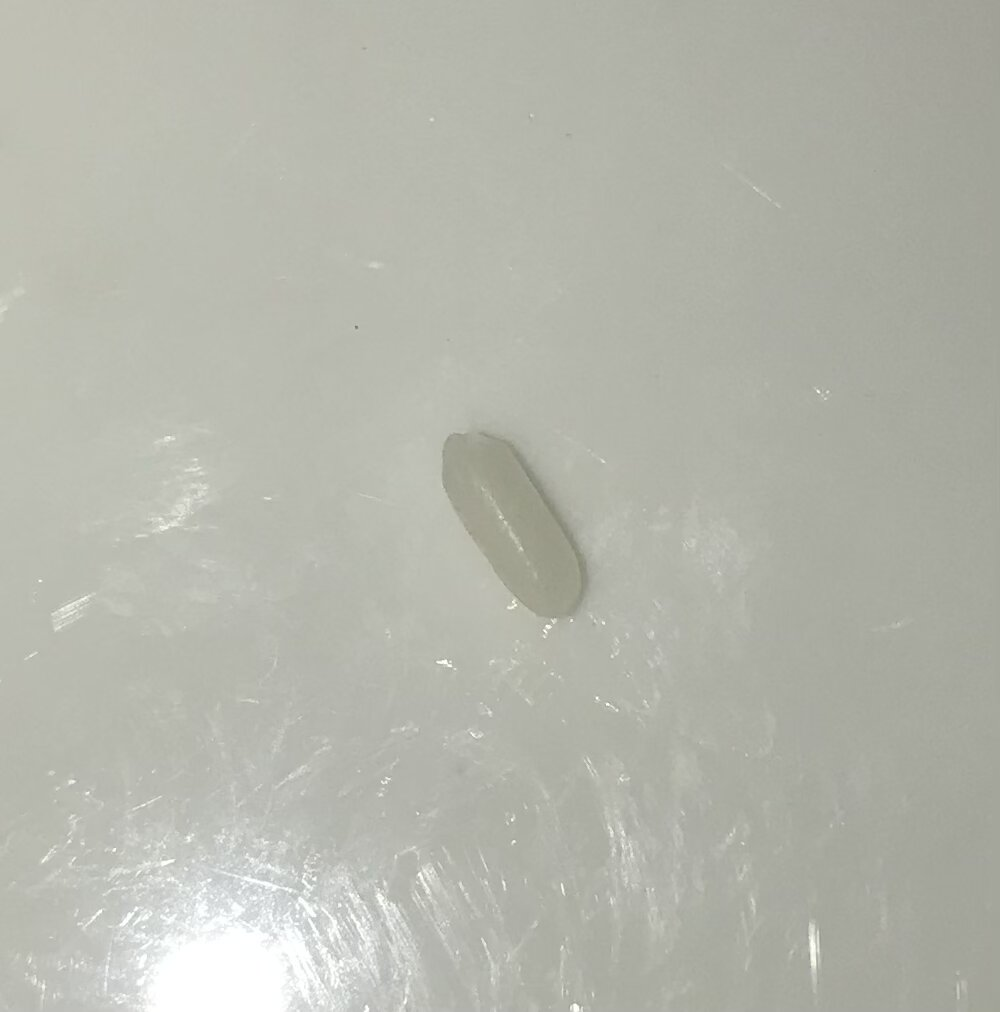Gao Lai Sua: (431, 423, 590, 633)
